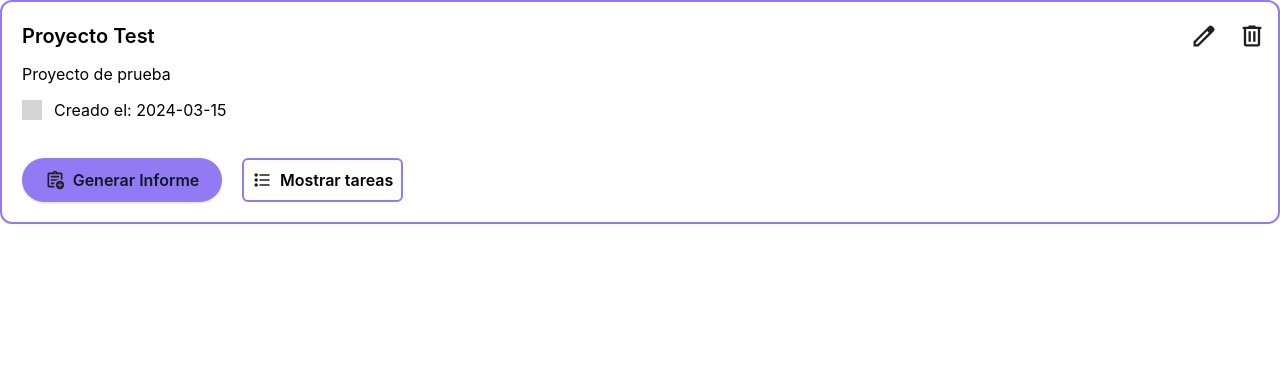
Test case: CardProyecto › renderiza tareas
This screenshot has width=1280, height=387.
Click the button "Mostrar tareas" at x=323, y=180, box [242,158,403,202]
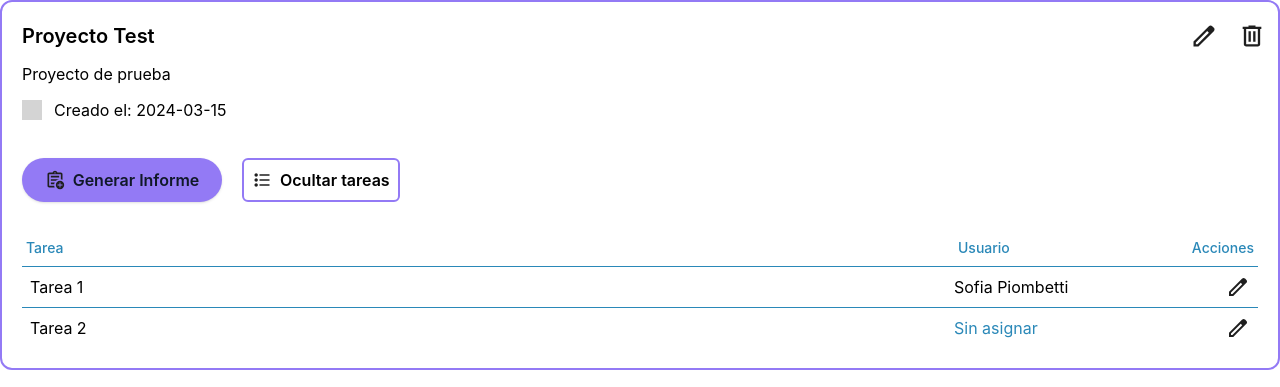
Expected: the heading "Tarea 1" is shown, [30,277,83,297]
Expected: the heading "Tarea 2" is shown, [30,318,87,338]
